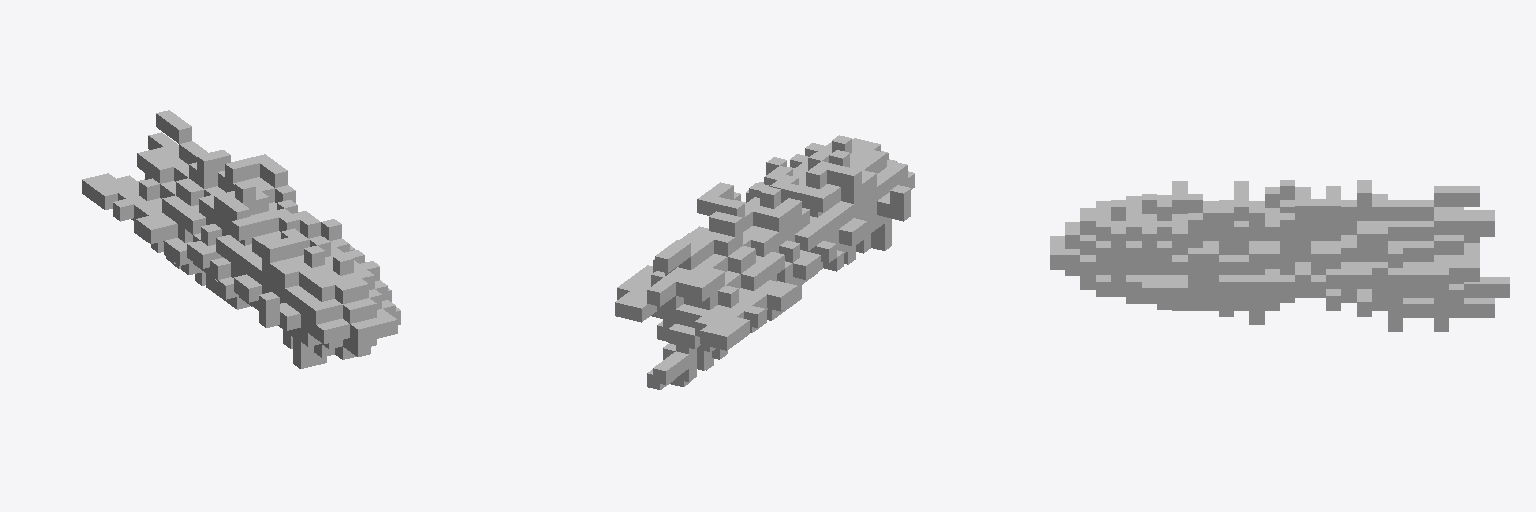
File: projectile.obj
3 views of the same model, side by side, from view 1: azimuth 30°, elevation 25°; view 2: azimuth 150°, elevation 25°; view 3: azimuth 270°, elevation 25° (orthographic).
Parts seen in each view (by area): view 1: object 1; view 2: object 1; view 3: object 1.
Part boxes in pixels (left/top/right/bottom): object 1: left=82, top=110, right=400, bottom=368; object 1: left=615, top=135, right=914, bottom=389; object 1: left=1050, top=180, right=1509, bottom=331.
Size of the model in its own units: 1 by 1 by 3.